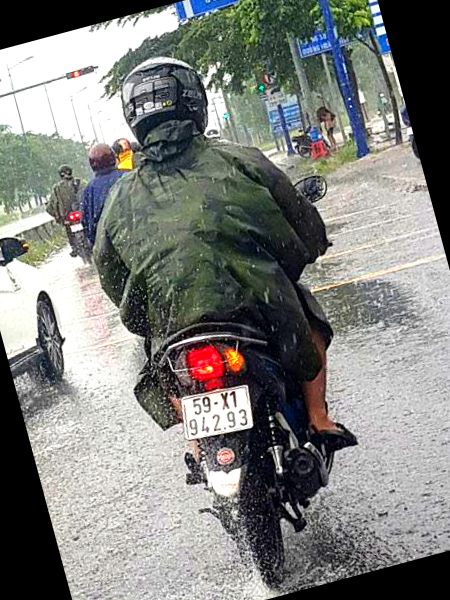number: (184, 387, 253, 438)
